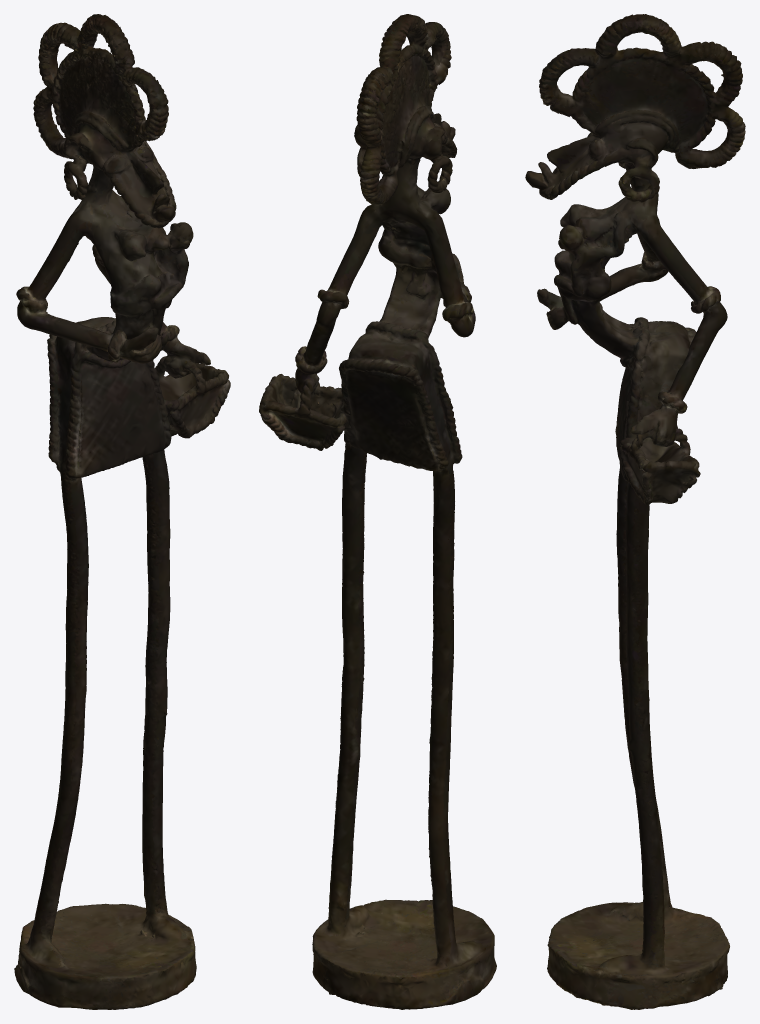
The model's file is preview.glb.
3 views of the same model, side by side, from view 1: azimuth 30°, elevation 25°; view 2: azimuth 150°, elevation 25°; view 3: azimuth 270°, elevation 25° (orthographic).
Visible parts, largest first — view 1: Object_2; view 2: Object_2; view 3: Object_2.
Boxes of the visible parts, x1,y1,x2,y2 form: Object_2: [14, 14, 230, 1009]; Object_2: [259, 14, 496, 1009]; Object_2: [525, 14, 745, 1009].
Size of the model in its own units: 99.18 by 435 by 90.41.
Materials: 1 (1 with a texture image).
